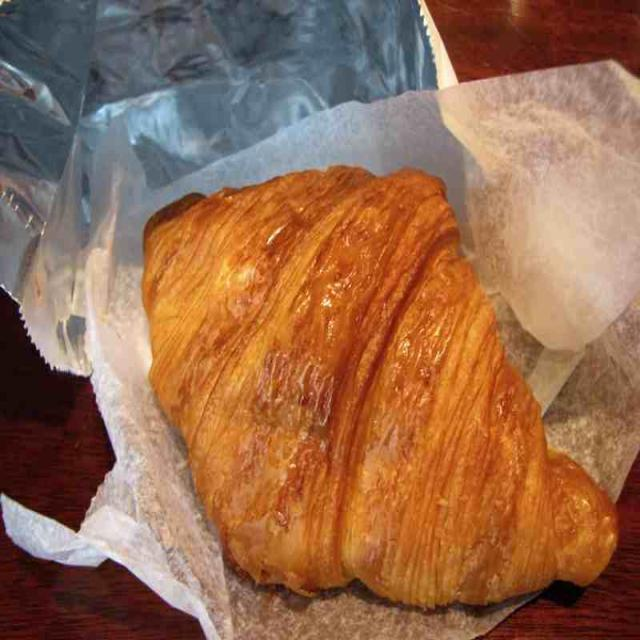Croissant: (130, 152, 632, 614)
